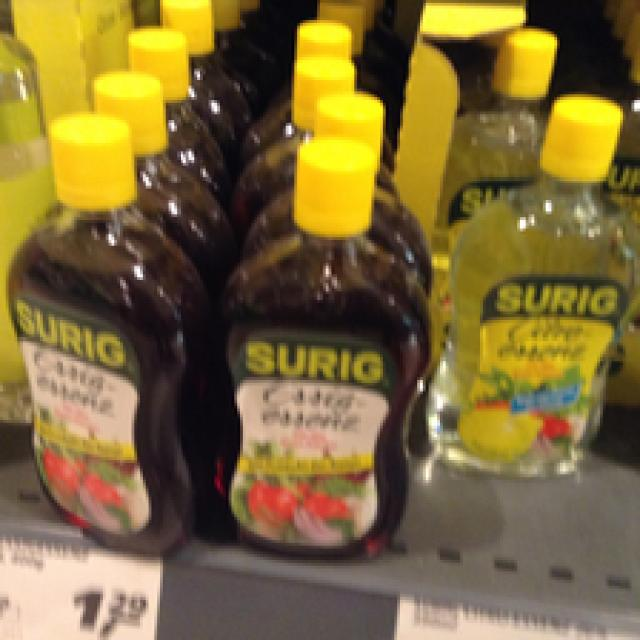groceries: (208, 137, 426, 557), (6, 114, 197, 557), (432, 89, 632, 474)
